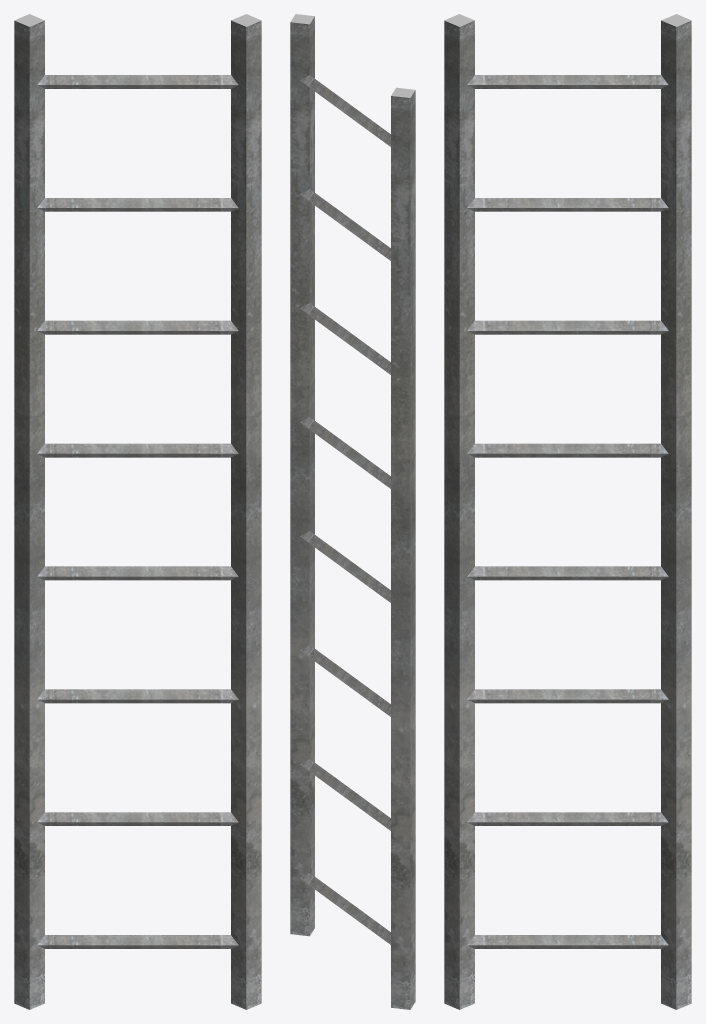
Rendered from Ladder.fbx.
3 views of the same model, side by side, from view 1: azimuth 90°, elevation 25°; view 2: azimuth 210°, elevation 25°; view 3: azimuth 270°, elevation 25° (orthographic). The views are drawn at different scales.
Parts seen in each view (by area): view 1: Cube_006; view 2: Cube_006; view 3: Cube_006.
Part boxes in pixels (x1,y1,x2,y2): Cube_006: (14,14,261,1009); Cube_006: (290,14,415,1009); Cube_006: (444,14,691,1009).
Size of the model in its own units: 0.0566 by 2 by 0.4566.
